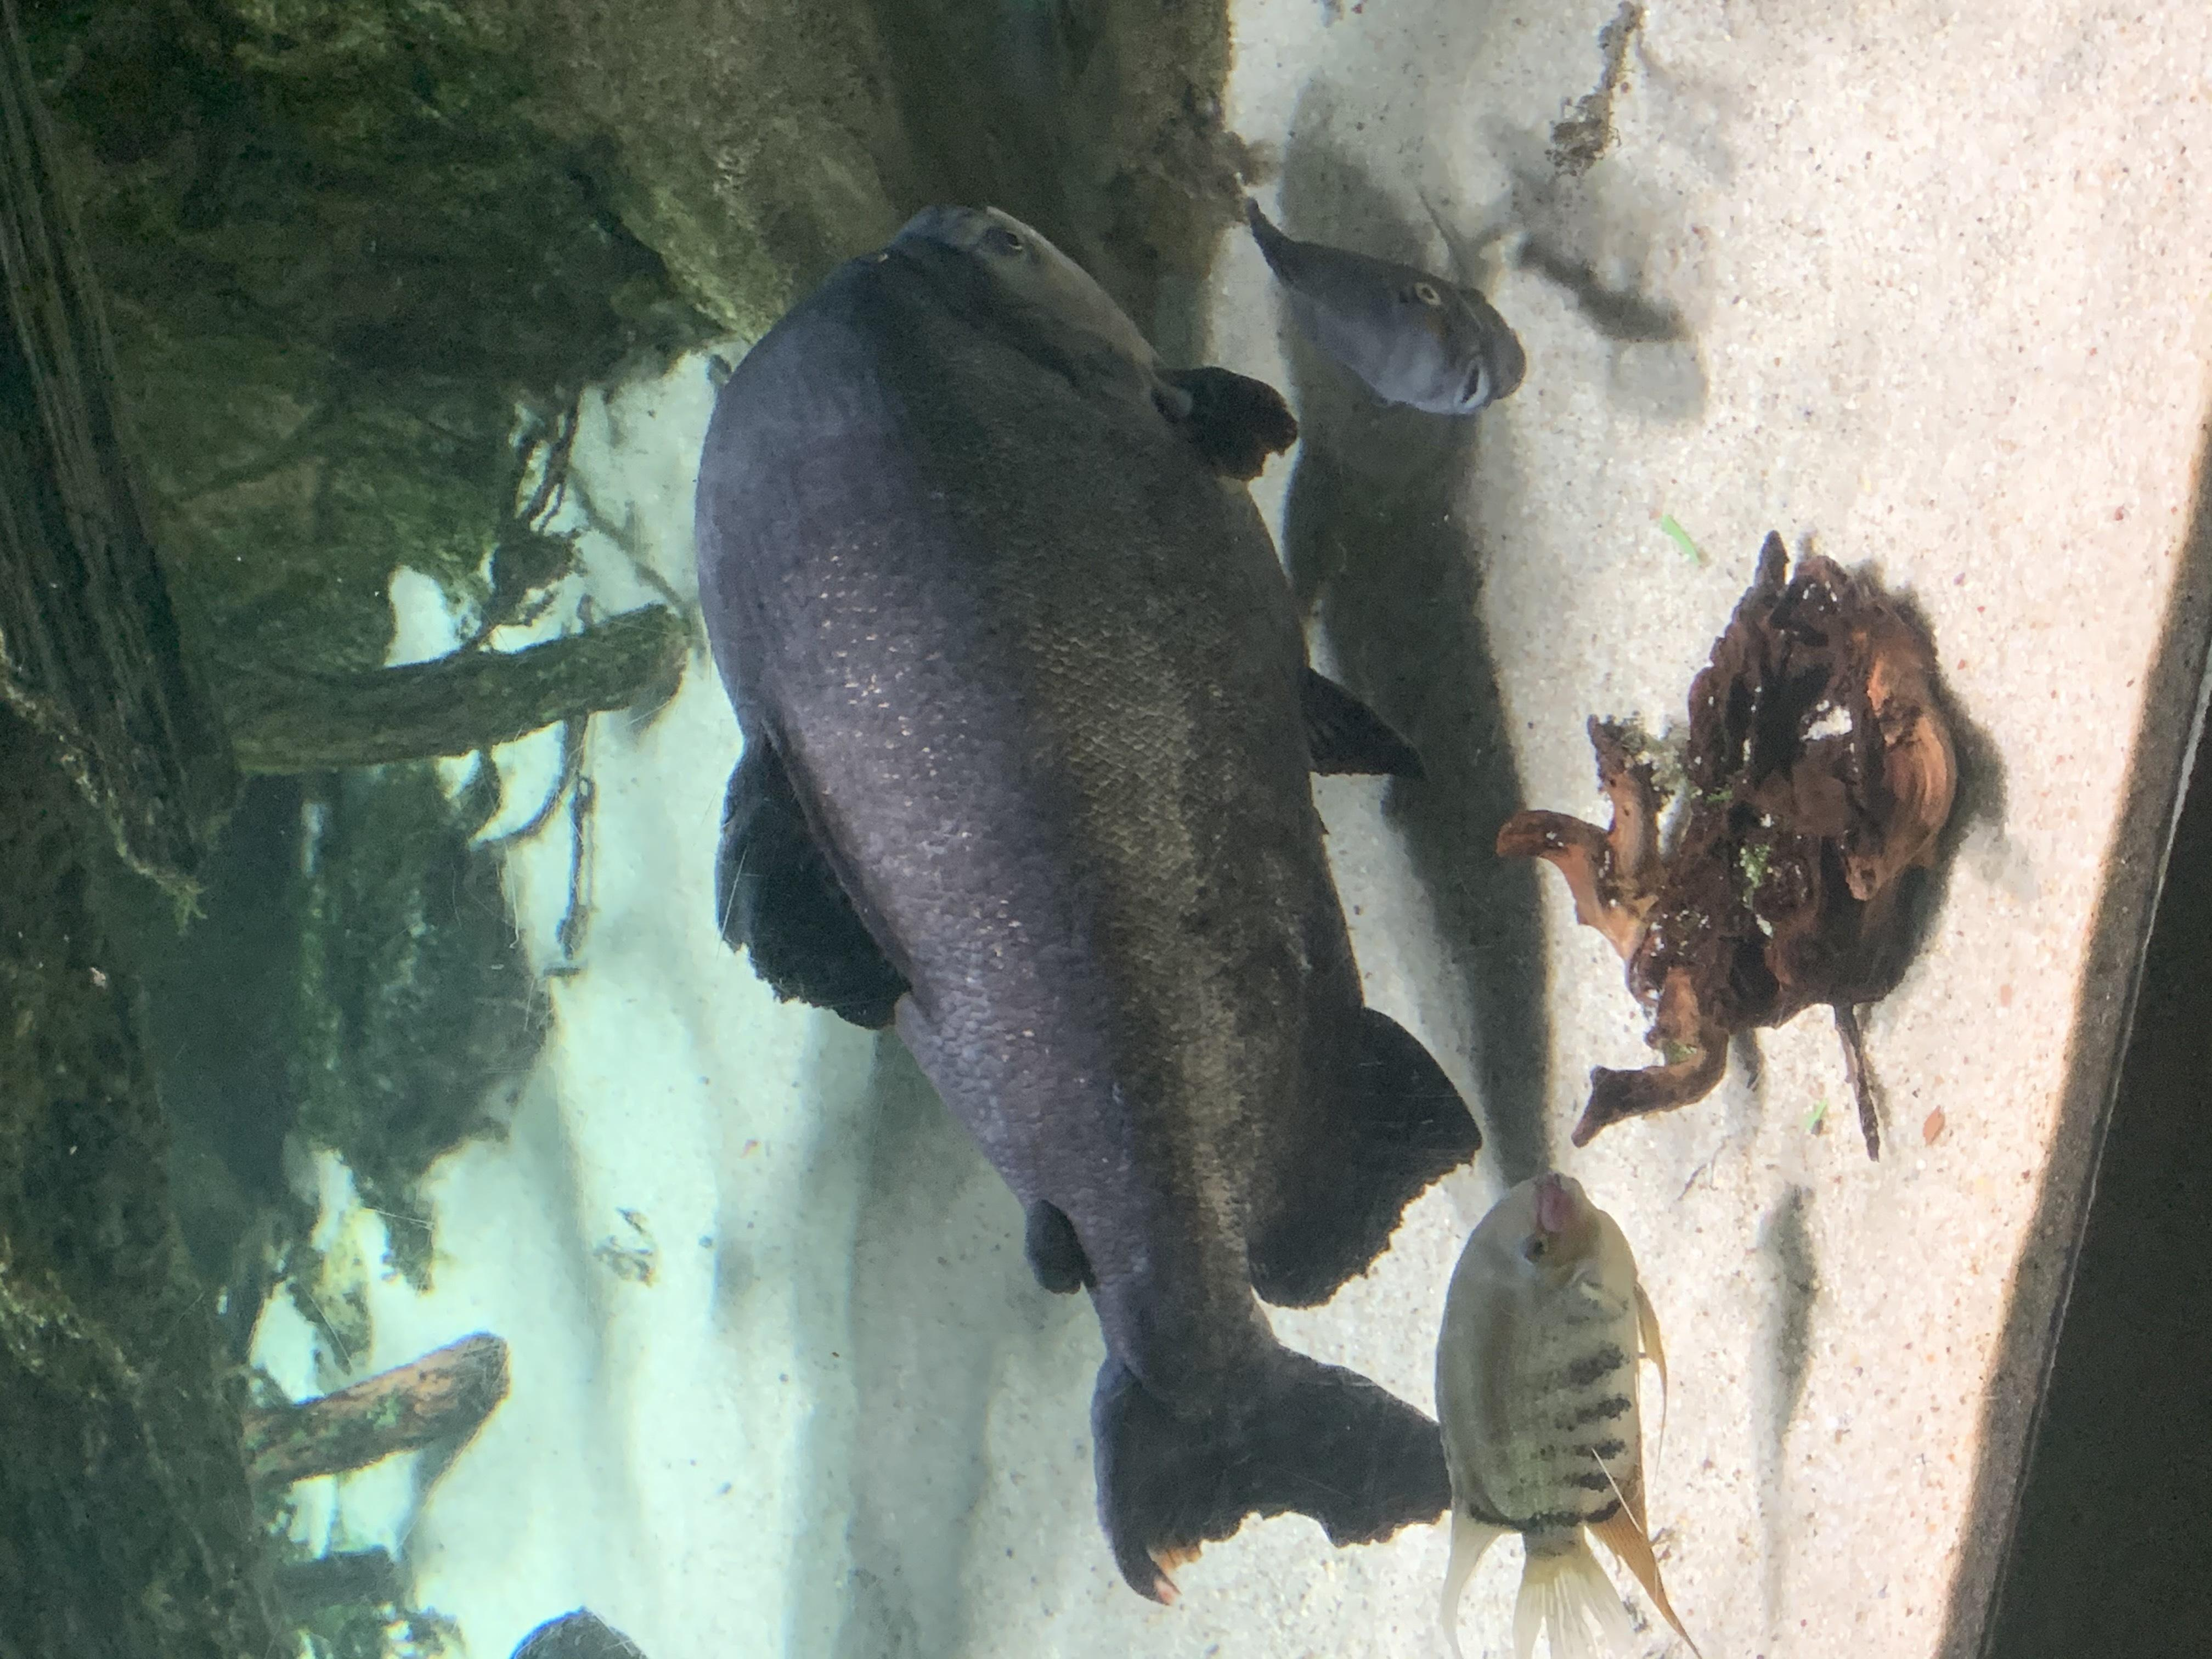fish: (693, 181, 1505, 1612), (1437, 1168, 1702, 1659), (1245, 192, 1524, 416)
